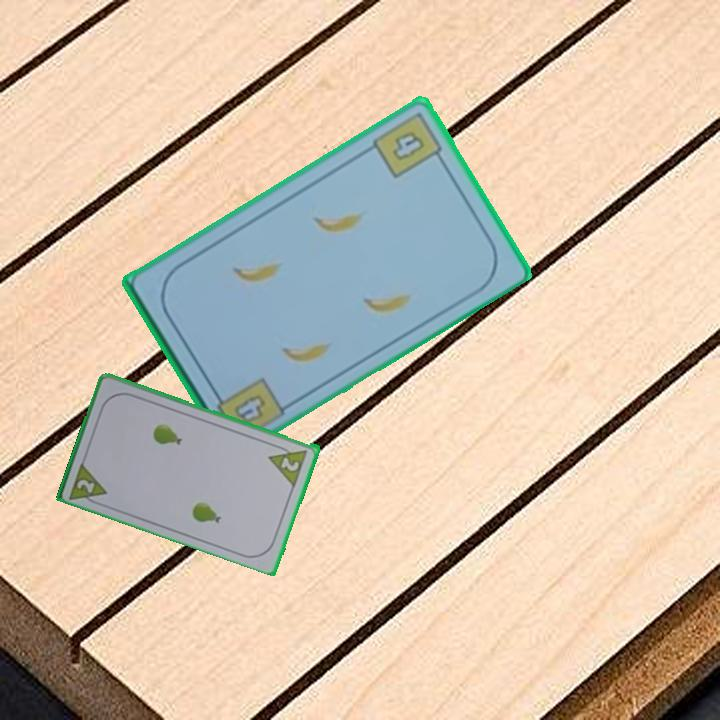2p: (66, 457, 110, 509), (265, 440, 311, 488)
4b: (368, 107, 448, 181), (230, 390, 269, 426)
